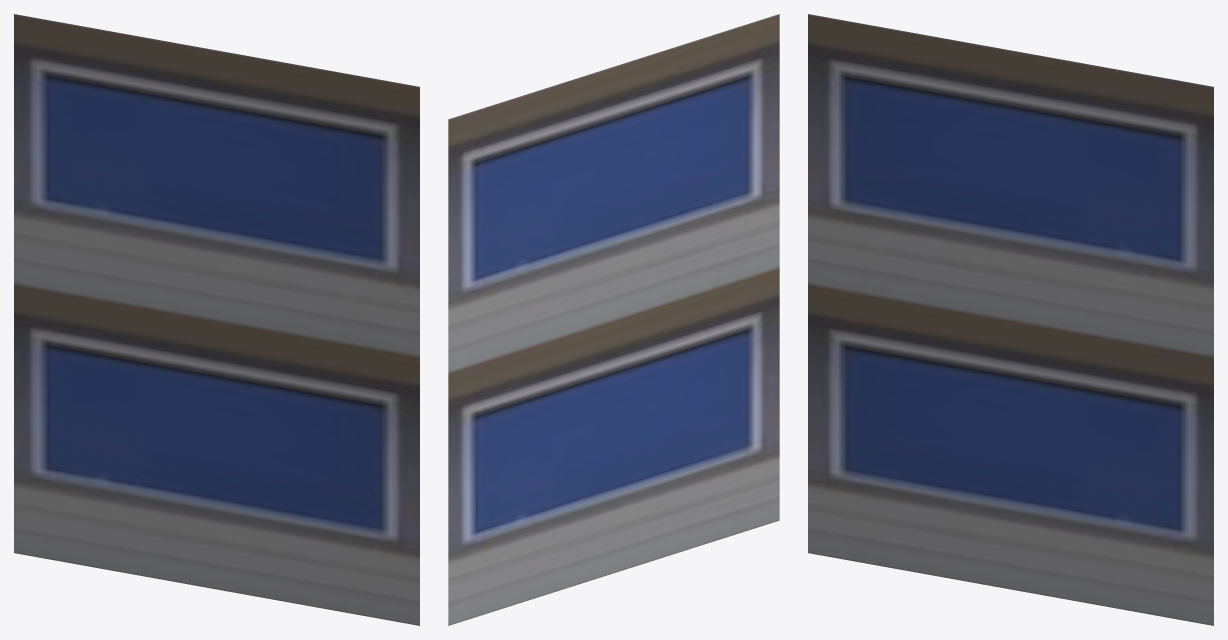
File: ResTex__2576.fbx
3 renders of one model, left to right at view 1: azimuth 90°, elevation 25°; view 2: azimuth 150°, elevation 25°; view 3: azimuth 270°, elevation 25°, orthographic. The views are drawn at different scales.
Parts seen in each view (by area): view 1: CityEngineMaterial_23_m; view 2: CityEngineMaterial_23_m; view 3: CityEngineMaterial_23_m.
Part boxes in pixels (x1,y1,x2,y2): CityEngineMaterial_23_m: (14,14,419,625); CityEngineMaterial_23_m: (448,14,779,625); CityEngineMaterial_23_m: (808,14,1213,625).
Size of the model in its own units: 1.74 by 6 by 4.09.
Materials: 1 (1 with a texture image).
